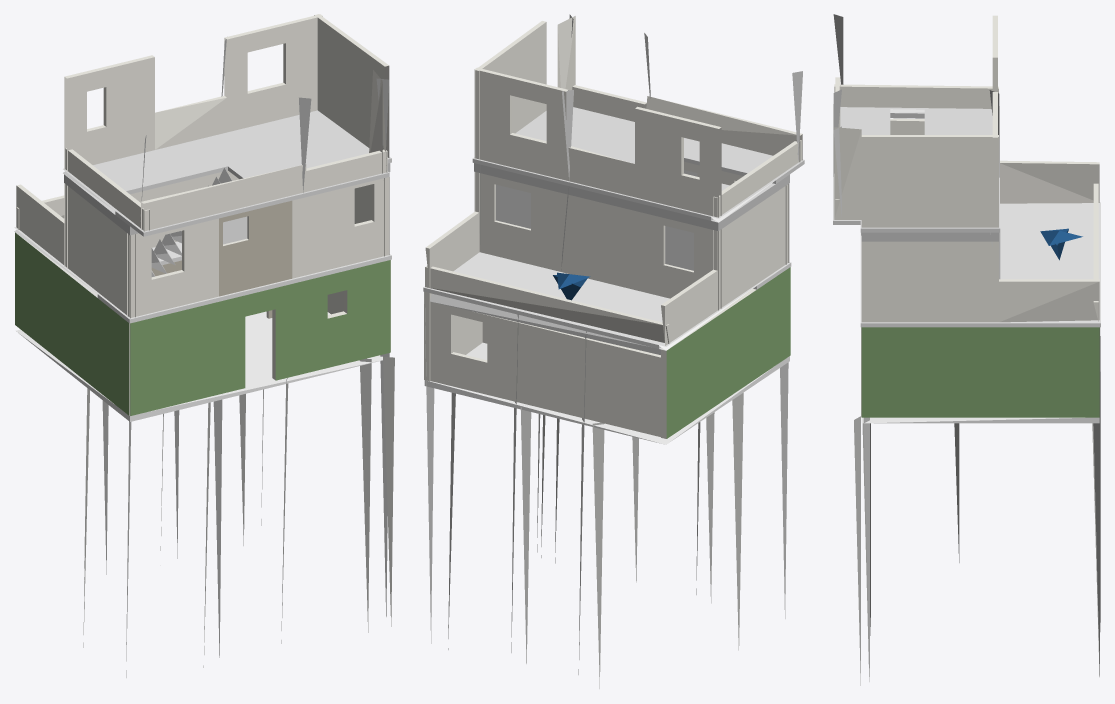
3 renders of one model, left to right at view 1: azimuth 30°, elevation 25°; view 2: azimuth 150°, elevation 25°; view 3: azimuth 270°, elevation 25°, orthographic. The views are drawn at different scales.
Parts seen in each view (by area): view 1: F_28; view 2: F_28; view 3: F_28.
Boxes of the visible parts, <box> form: F_28: <box>14,14,394,677</box>; F_28: <box>423,14,804,688</box>; F_28: <box>833,14,1100,685</box>.
Bounding box in the file's own units: 8.06 × 16.63 × 7.31.
